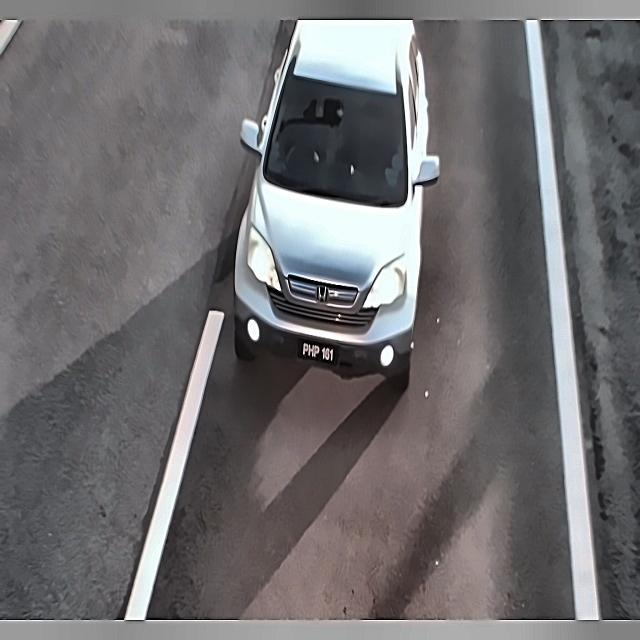car: (294, 336, 341, 371)
